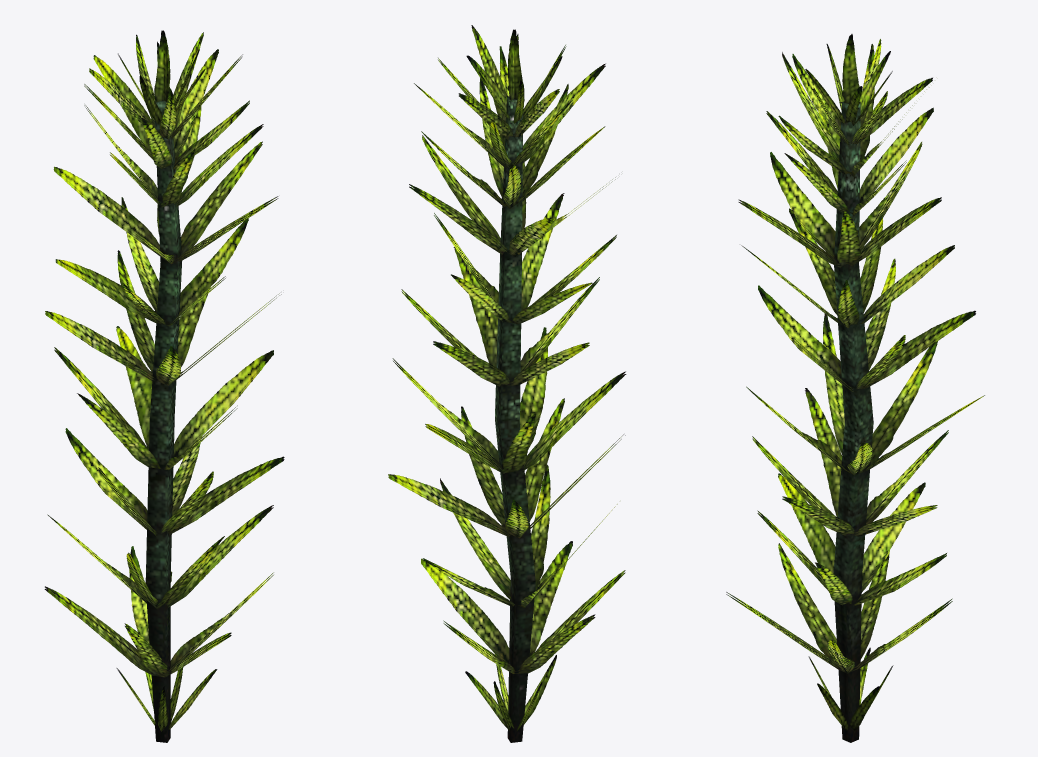
Rendered from straw_small_anacharis02.dae.
3 views of the same model, side by side, from view 1: azimuth 30°, elevation 25°; view 2: azimuth 150°, elevation 25°; view 3: azimuth 270°, elevation 25° (orthographic).
Visible parts, largest first — view 1: anacharis02; view 2: anacharis02; view 3: anacharis02.
Boxes of the visible parts, box(x1,y1,x2,y2) form: anacharis02: box(44, 30, 284, 742); anacharis02: box(388, 25, 626, 742); anacharis02: box(726, 34, 984, 742).
Size of the model in its own units: 0.1674 by 0.4 by 0.17.
